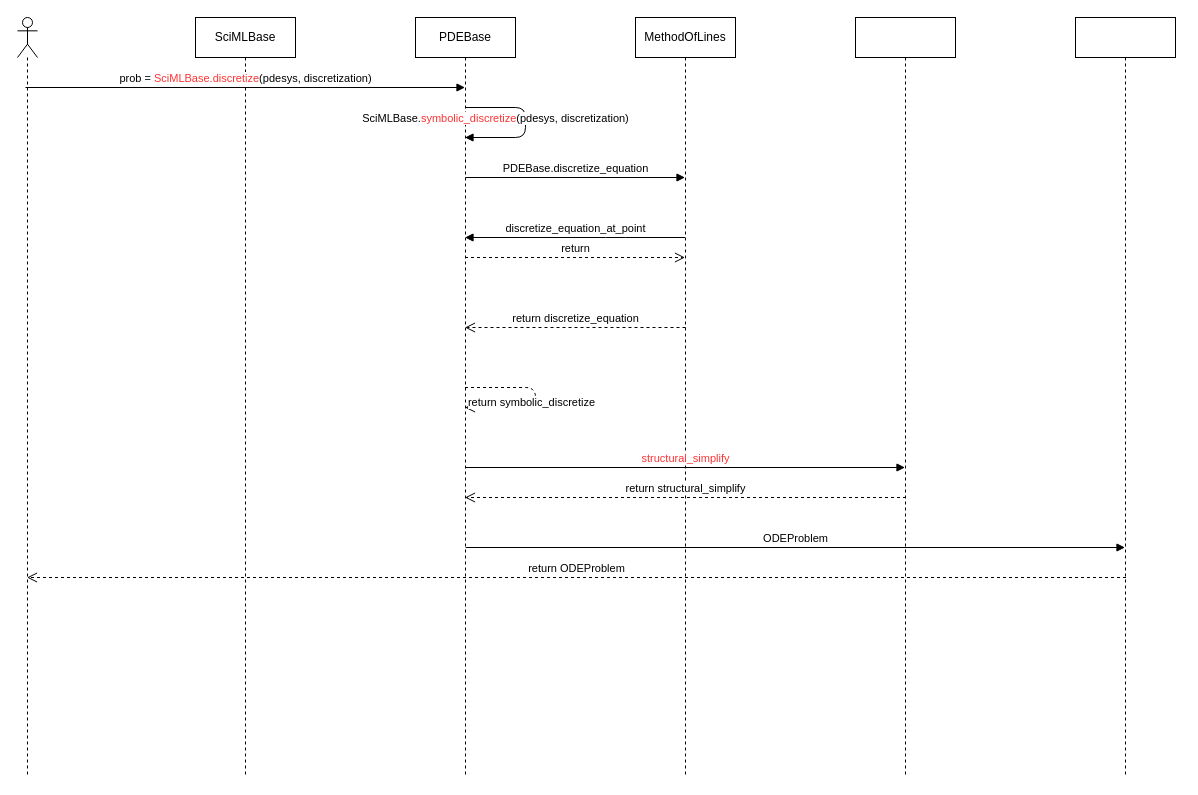
The diagram is 1198 pixels wide and 795 high, and some of its shapes have lost their labels. Here are the shapes that lost their labels. From the top down, the box of each, then its label:
(854, 16, 956, 778): ModelingToolkit
(1074, 16, 1176, 778): DifferentialEquations
